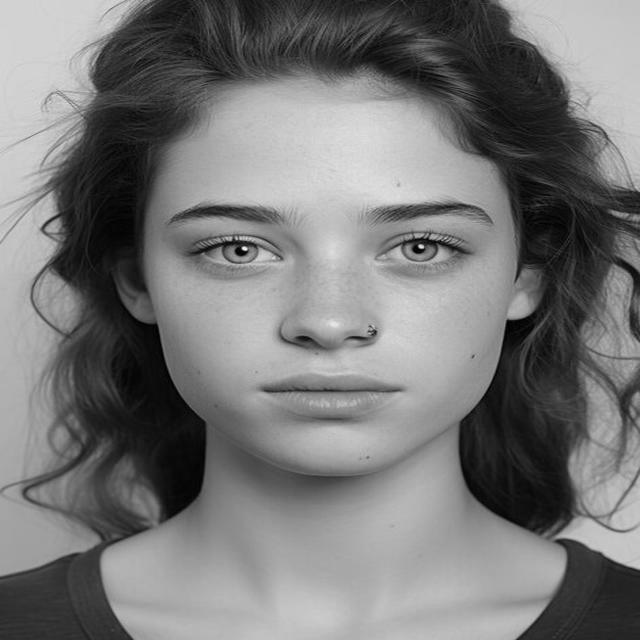Neutral: (141, 85, 518, 476)
